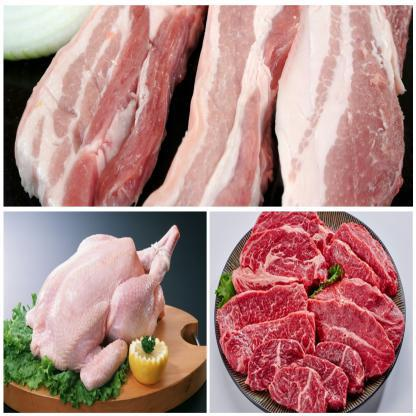beef: (226, 215, 403, 410)
chicken: (27, 226, 177, 386)
pork: (25, 9, 169, 205), (275, 4, 410, 207), (172, 4, 272, 206)
